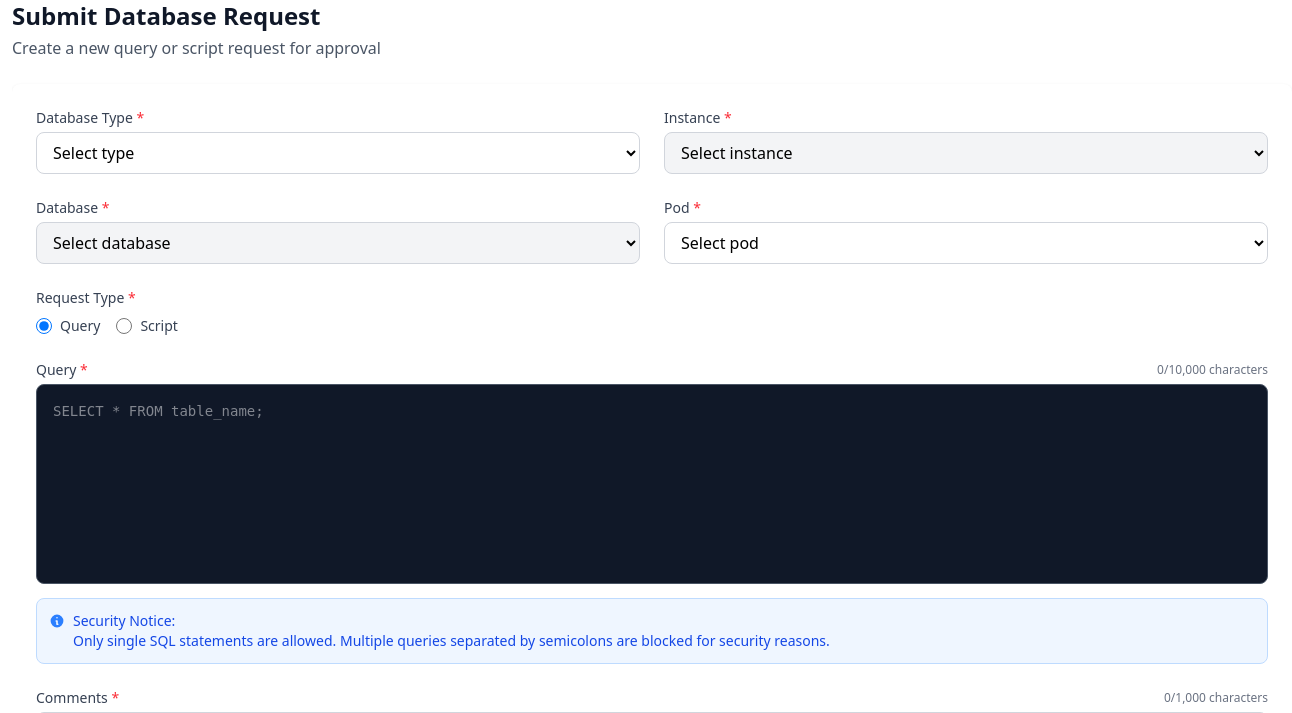
Scenario: SubmitRequest › should handle API error on submission
The image size is (1292, 713).
# Fill form
Select "POSTGRES" in the dropdown below "Database Type" at [338, 153], box x1=36 y1=132 x2=640 y2=174
Select "test-instance" in the dropdown below "Instance" at [966, 153], box x1=664 y1=132 x2=1268 y2=174
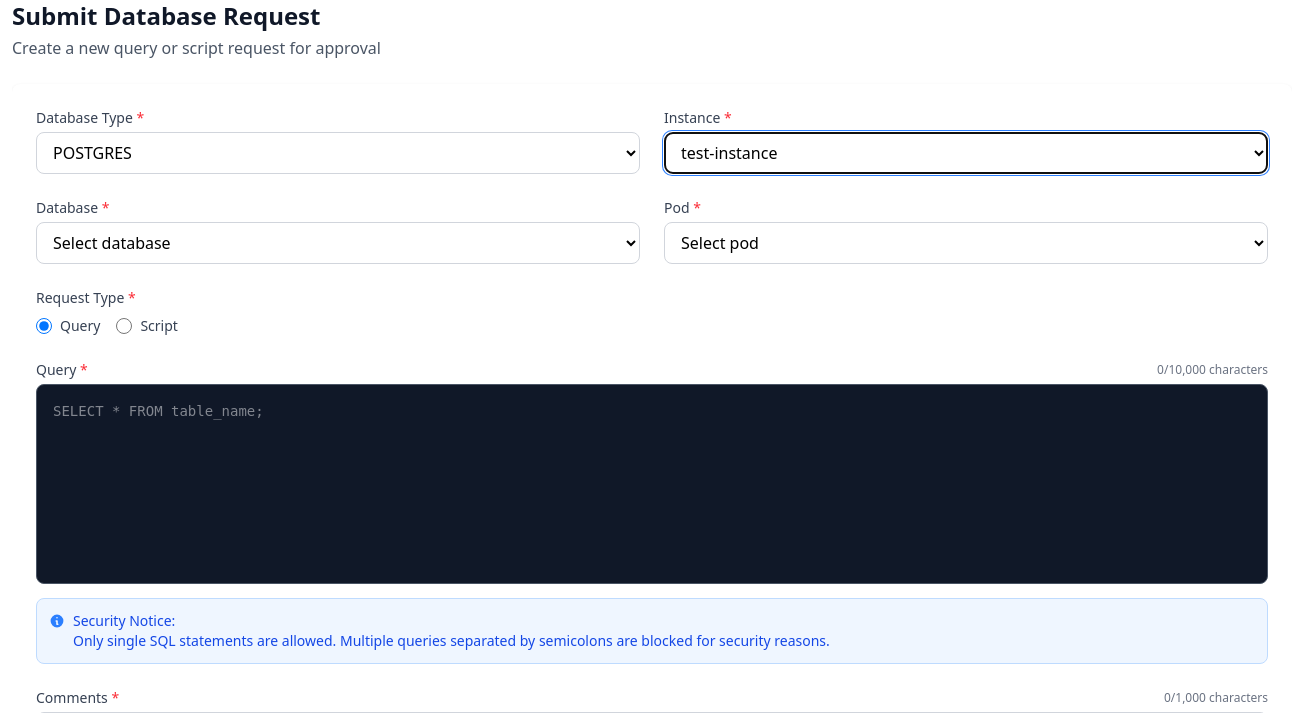
Select "test_db" in the 3rd dropdown at [338, 243], box x1=36 y1=222 x2=640 y2=264
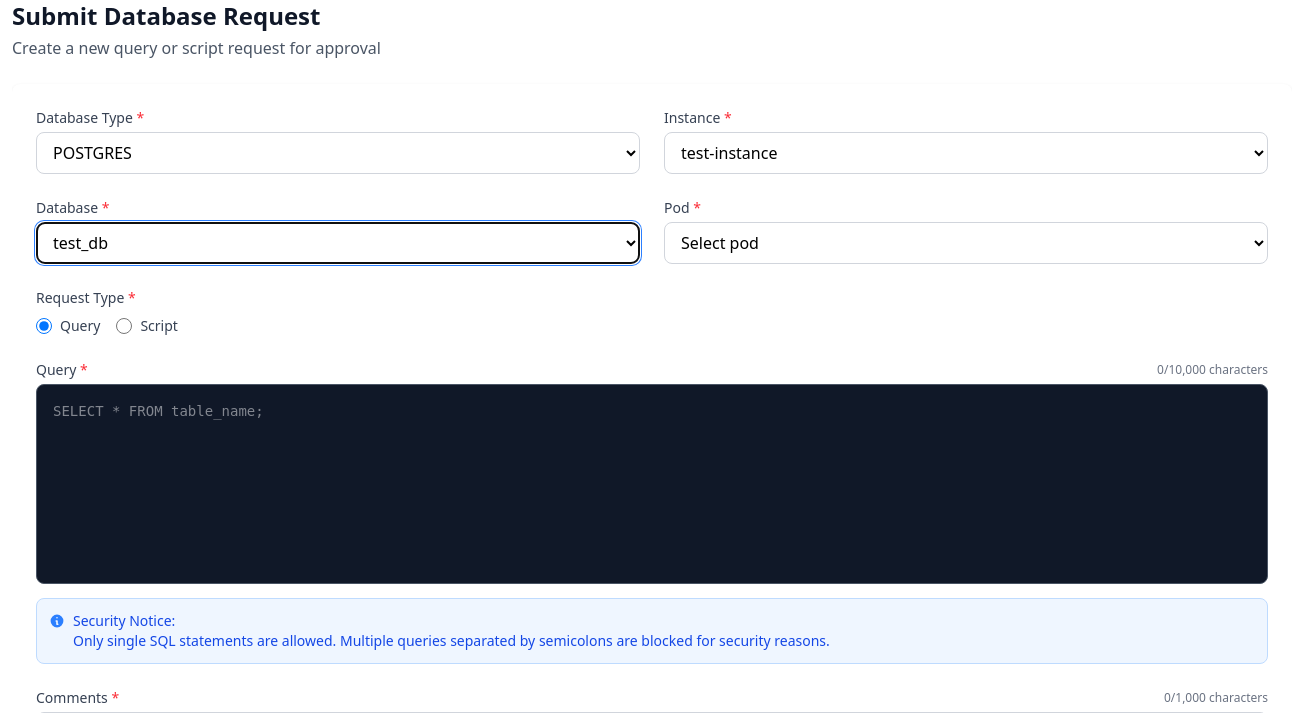
Select "Pod 1" in the dropdown below "Pod" at [966, 243], box x1=664 y1=222 x2=1268 y2=264
(page scrolled)
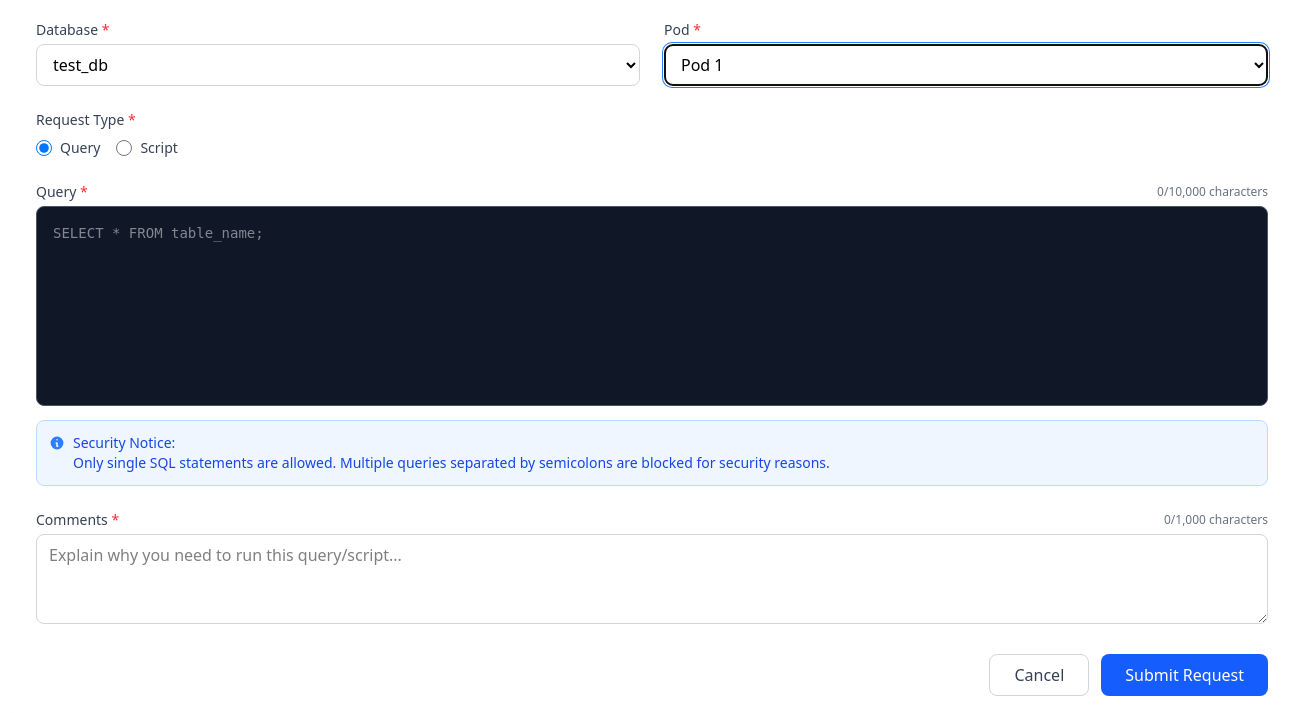
Type "Test query" into the text box with placeholder "Explain why you need to run this query/script..." at [652, 579], box x1=36 y1=534 x2=1268 y2=624
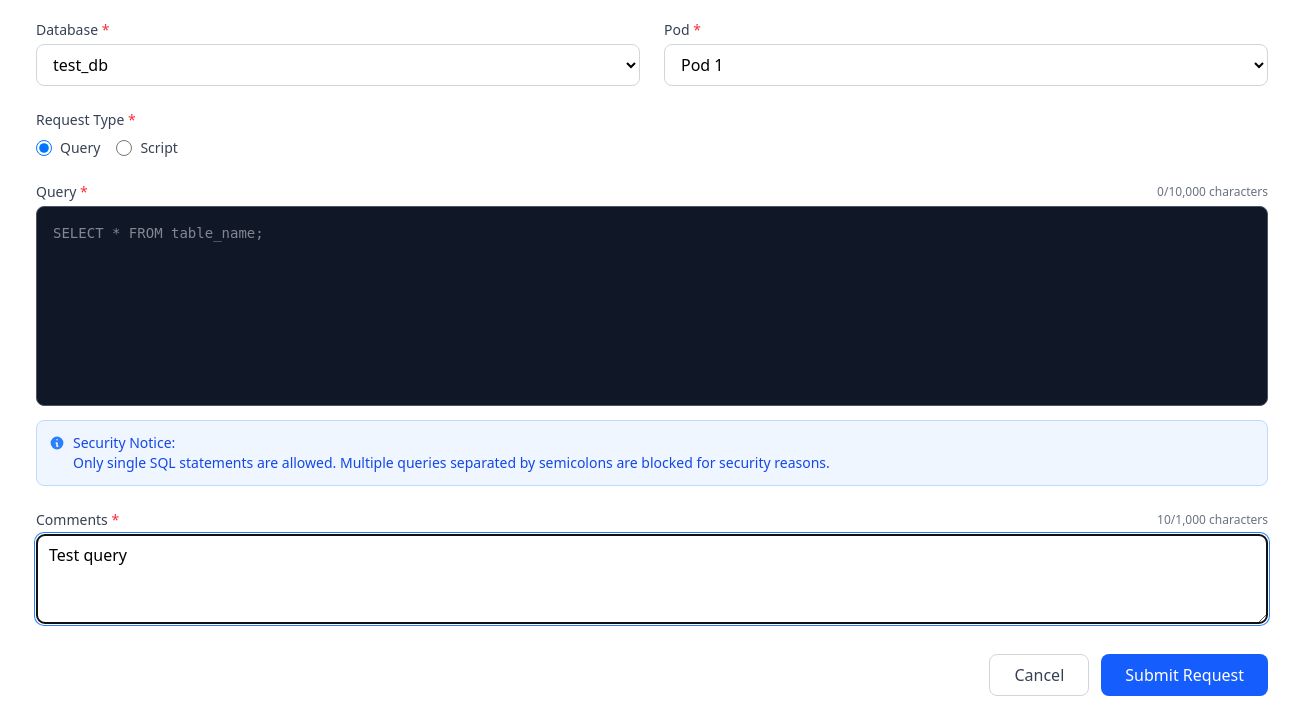
Type "SELECT * FROM users" into the text box with placeholder "SELECT * FROM table_name;" at [652, 306], box x1=36 y1=206 x2=1268 y2=406
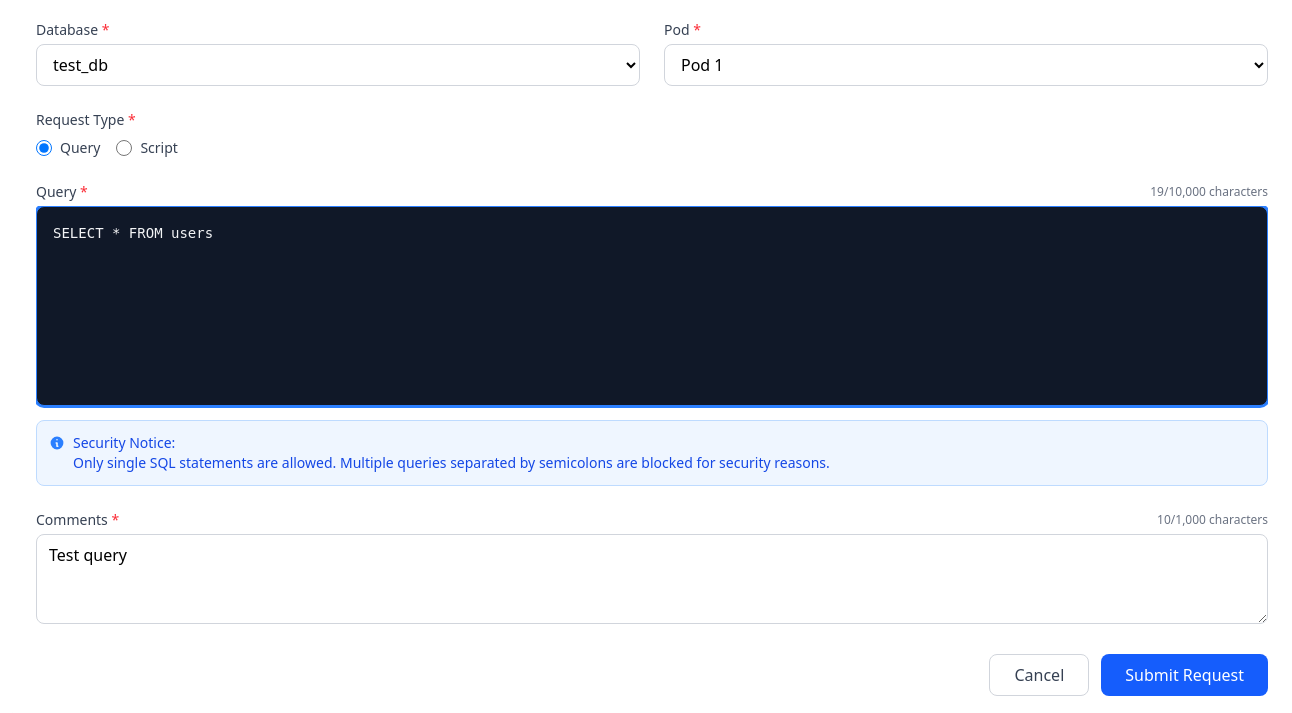
Click the button "Submit Request" at [1185, 675], box x1=1101 y1=654 x2=1268 y2=696
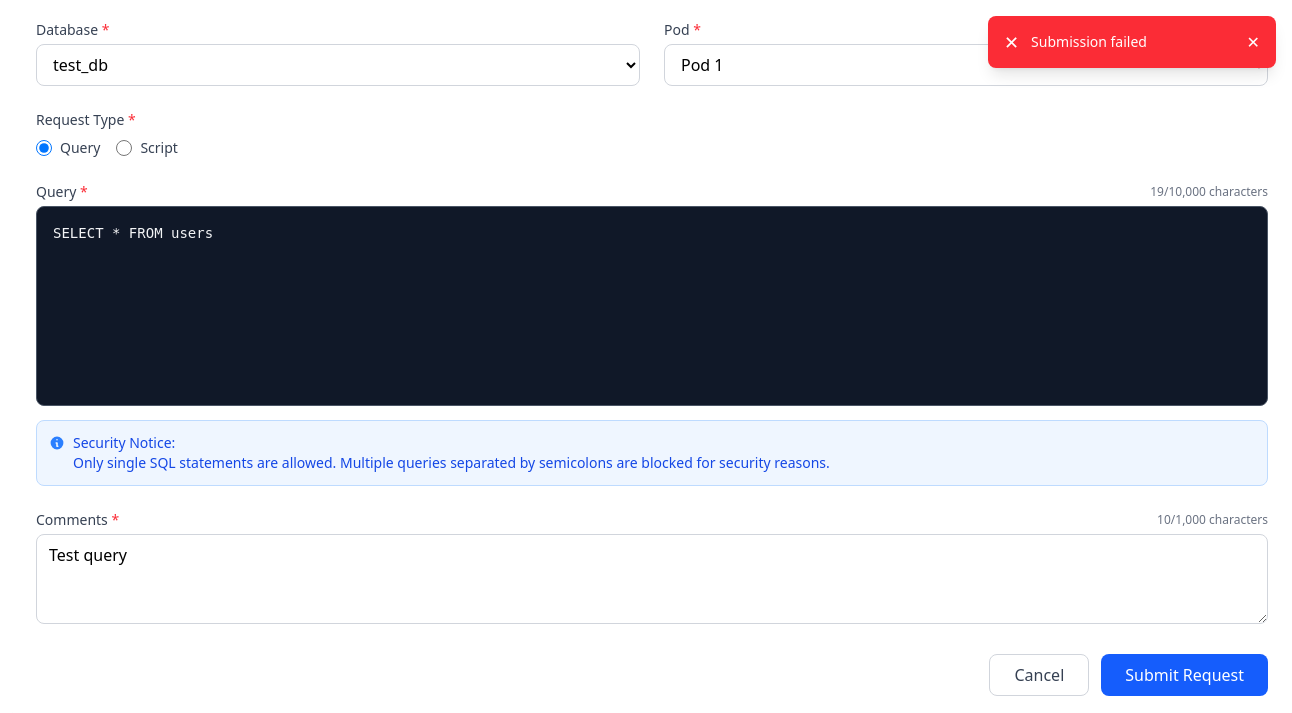
Result: the text "Submission failed" is shown at x1=1031 y1=32 x2=1147 y2=51
